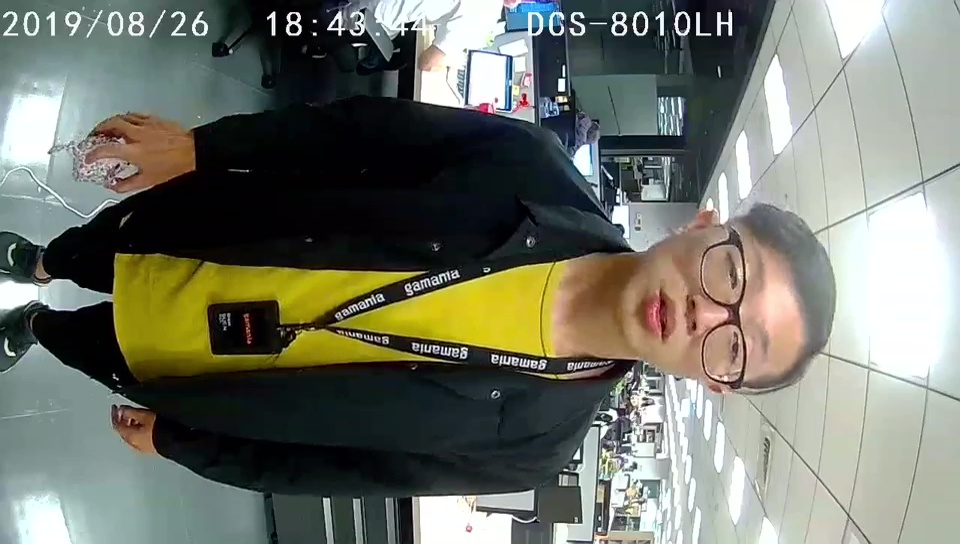pig: (72, 134, 128, 183)
